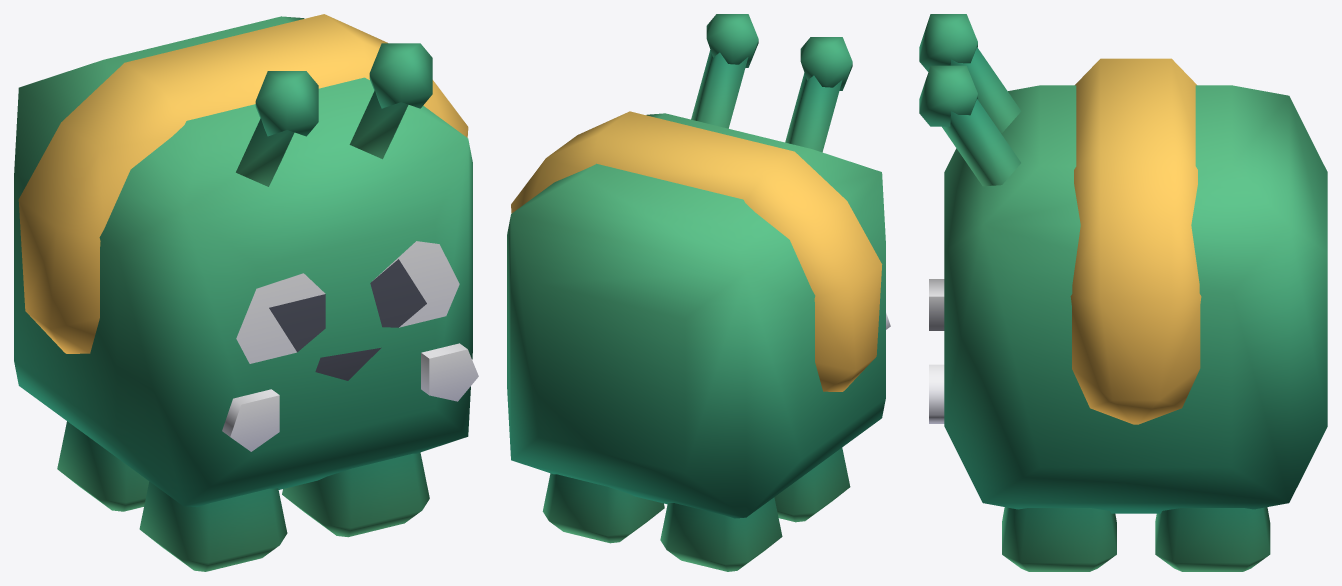
The model's file is cc0-caterpillar-lod1.glb.
The picture shows the model from 3 angles, left to right: view 1: azimuth 30°, elevation 25°; view 2: azimuth 150°, elevation 25°; view 3: azimuth 270°, elevation 25°; orthographic projection. The views are drawn at different scales.
Visible parts, largest first — view 1: part_2, part_5, part_1, part_4; view 2: part_2, part_4, part_3, part_5; view 3: part_2, part_3, part_1.
Boxes of the visible parts, left/top/right/bottom form: part_2: left=14, top=14, right=478, bottom=507; part_5: left=139, top=481, right=287, bottom=571; part_1: left=282, top=452, right=429, bottom=537; part_4: left=57, top=421, right=149, bottom=511; part_2: left=507, top=14, right=890, bottom=518; part_4: left=660, top=497, right=782, bottom=571; part_3: left=542, top=473, right=664, bottom=543; part_5: left=774, top=448, right=850, bottom=522; part_2: left=919, top=14, right=1327, bottom=513; part_3: left=1155, top=507, right=1270, bottom=571; part_1: left=1002, top=507, right=1116, bottom=571.
Size of the model in its own units: 1.44 by 1.72 by 1.33.
1 material, 1 textured.
